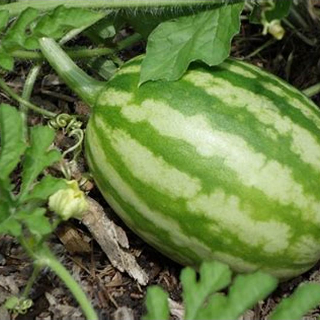dua_hau: (80, 55, 320, 273)
